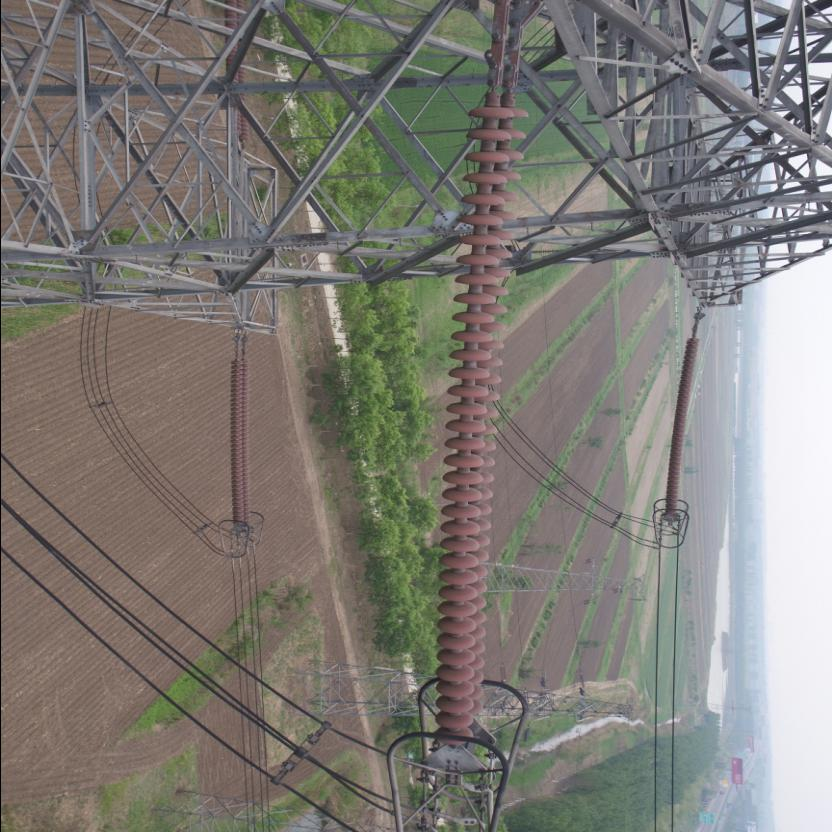insulator: (432, 57, 532, 755), (664, 328, 704, 514), (229, 358, 252, 528)
